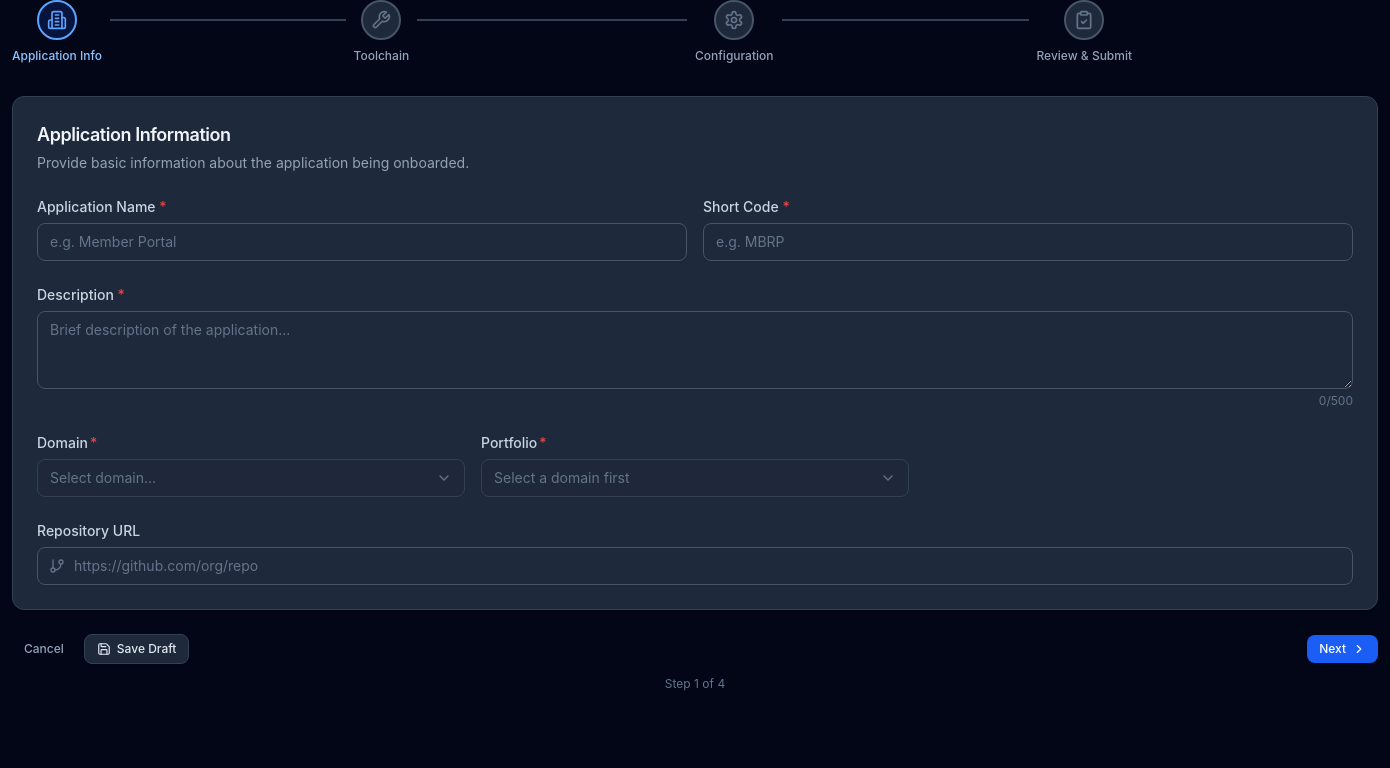
Test: Step 1 validation › validates application name minimum length
Type "A" into the field labelled "Application Name *".
click(362, 242); type("A")  # box [37, 223, 687, 261]
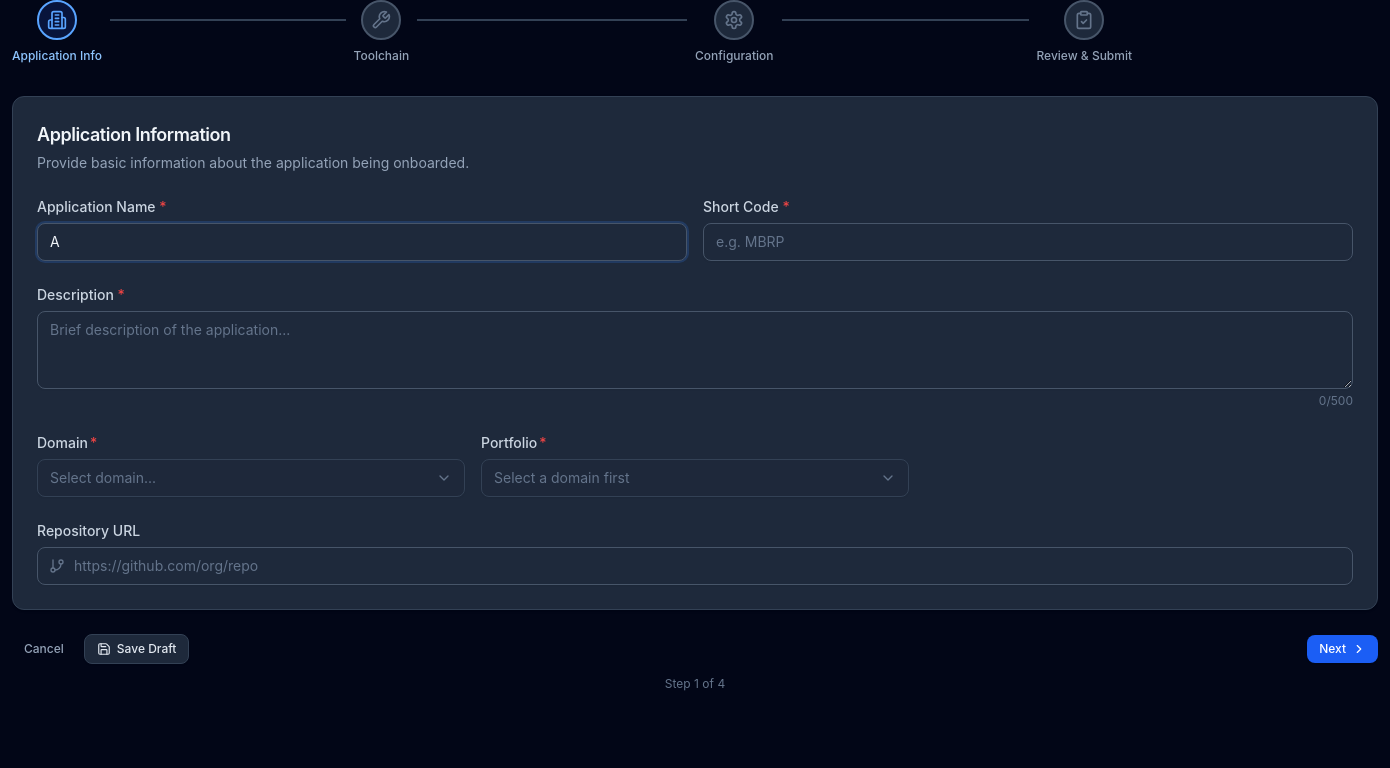
Type "TS" into the field labelled "Short Code *".
click(1028, 242); type("TS")  # box [703, 223, 1353, 261]
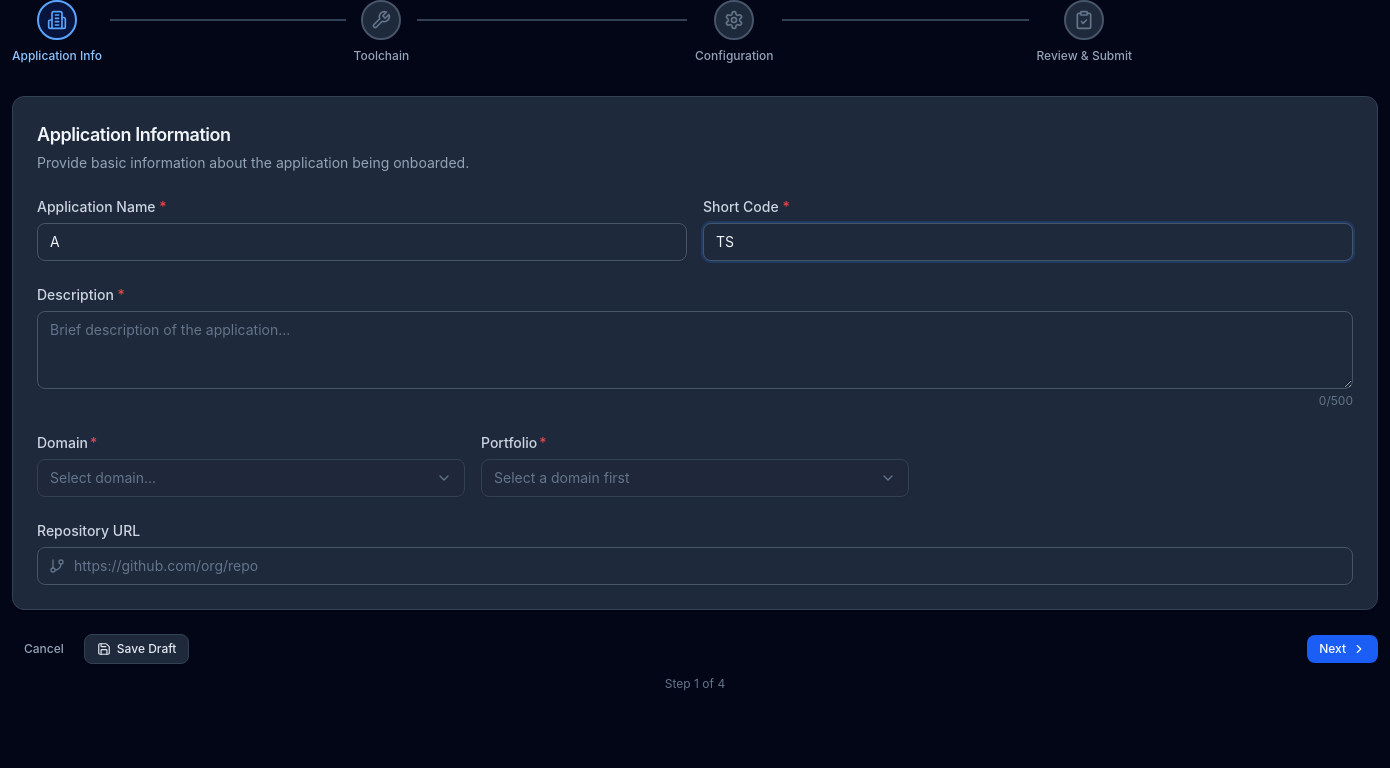
Type "A test application" into the text box labelled "Description *".
click(695, 350); type("A test application")  # box [37, 311, 1353, 389]
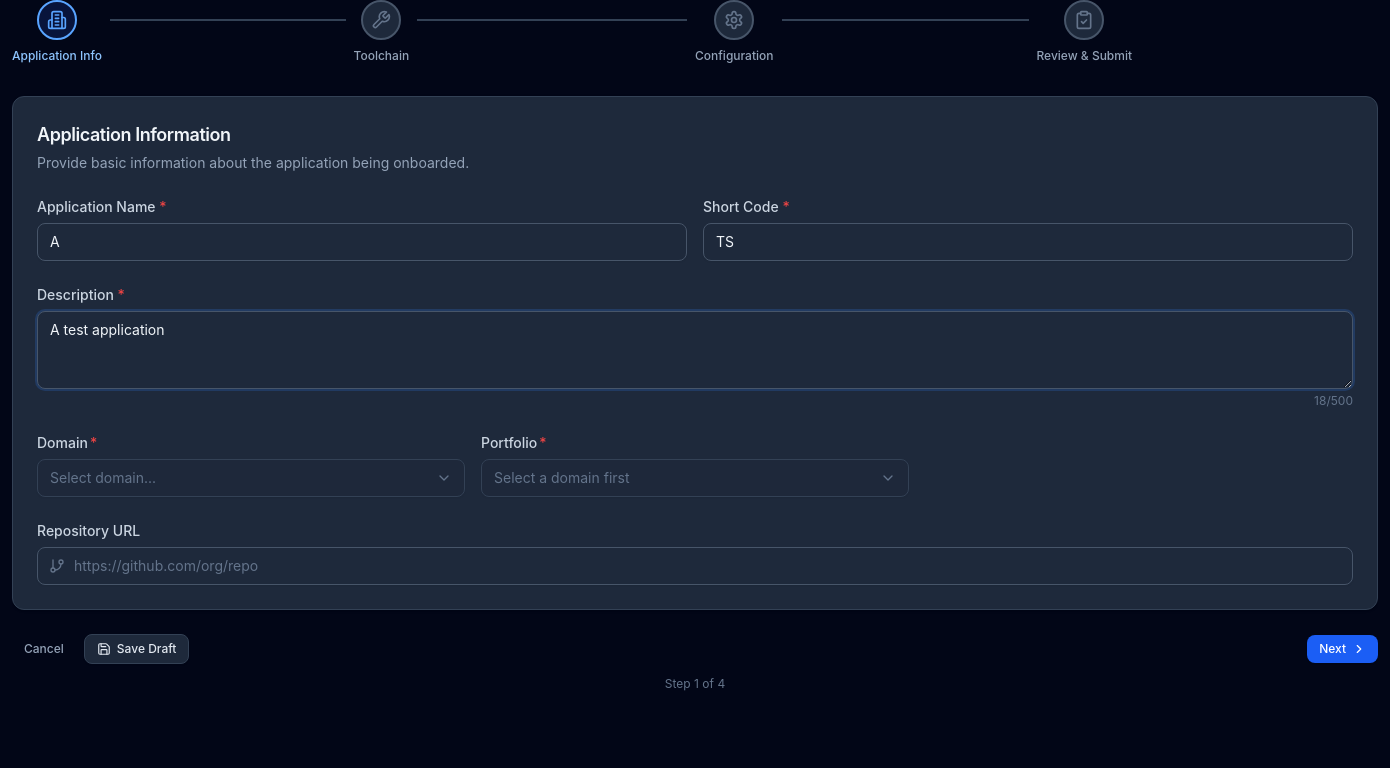
Click the button "Next".
click(1343, 649)  # box [1307, 635, 1378, 663]
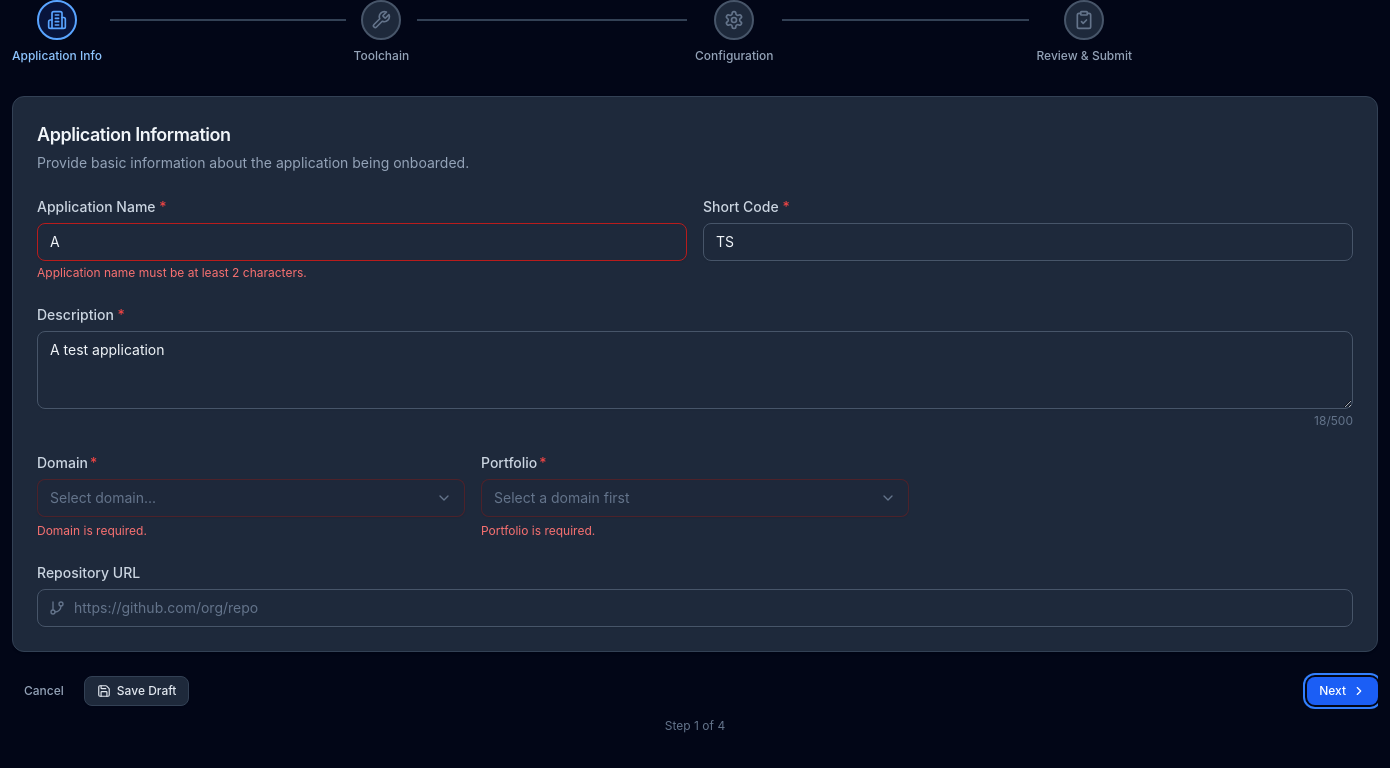
Result: the text "Application name must be at least 2 characters." is shown at [37, 265, 307, 280]
